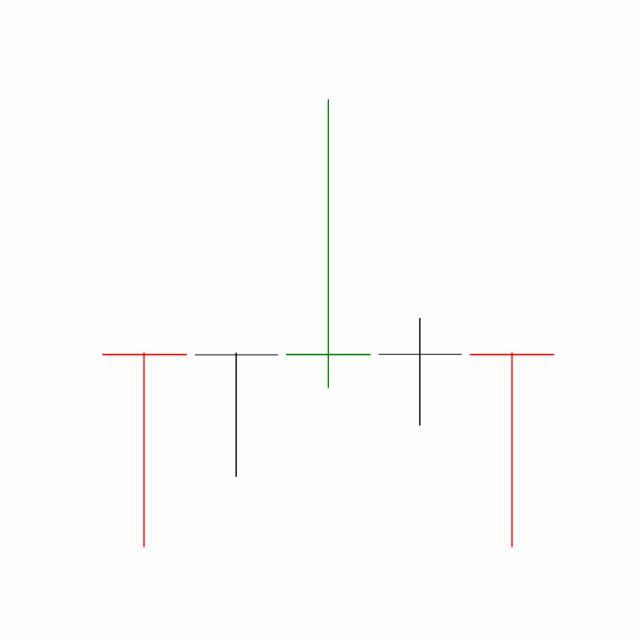Dragonfly Doji: (466, 351, 559, 551)
